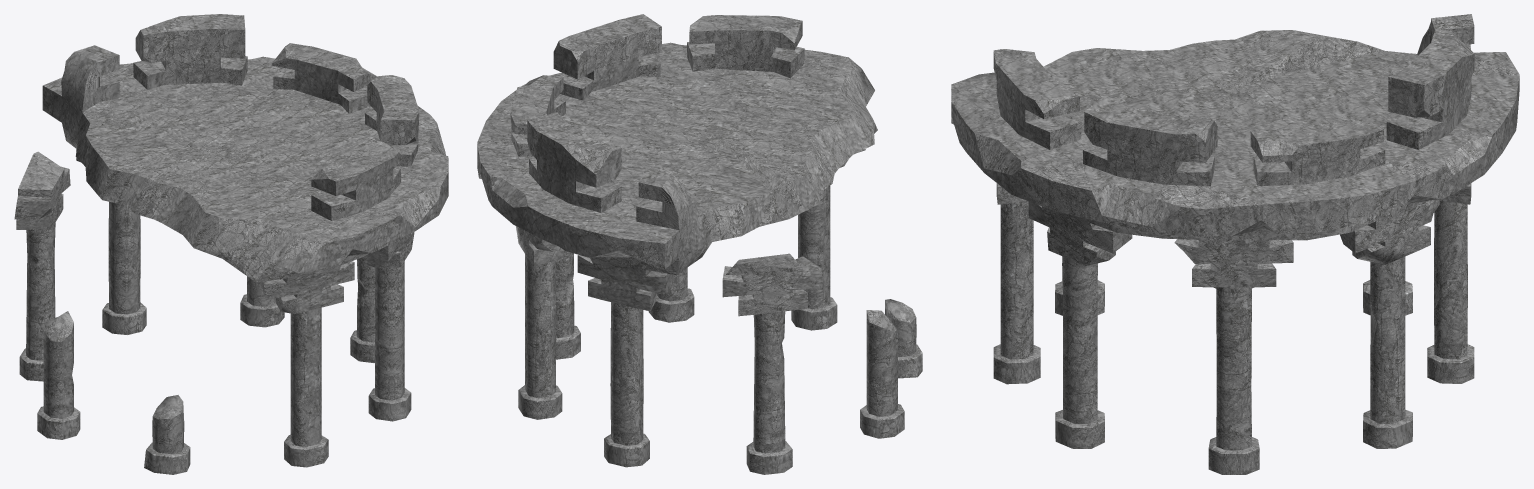
File: materials_3_building_6.fbx
The picture shows the model from 3 angles, left to right: view 1: azimuth 30°, elevation 25°; view 2: azimuth 150°, elevation 25°; view 3: azimuth 270°, elevation 25°; orthographic projection. The views are drawn at different scales.
Parts seen in each view (by area): view 1: materials_3_building_6; view 2: materials_3_building_6; view 3: materials_3_building_6.
Part boxes in pixels (x1,y1,x2,y2): materials_3_building_6: [14, 14, 448, 474]; materials_3_building_6: [477, 14, 922, 474]; materials_3_building_6: [951, 14, 1519, 474].
Size of the model in its own units: 551 by 409 by 599.
